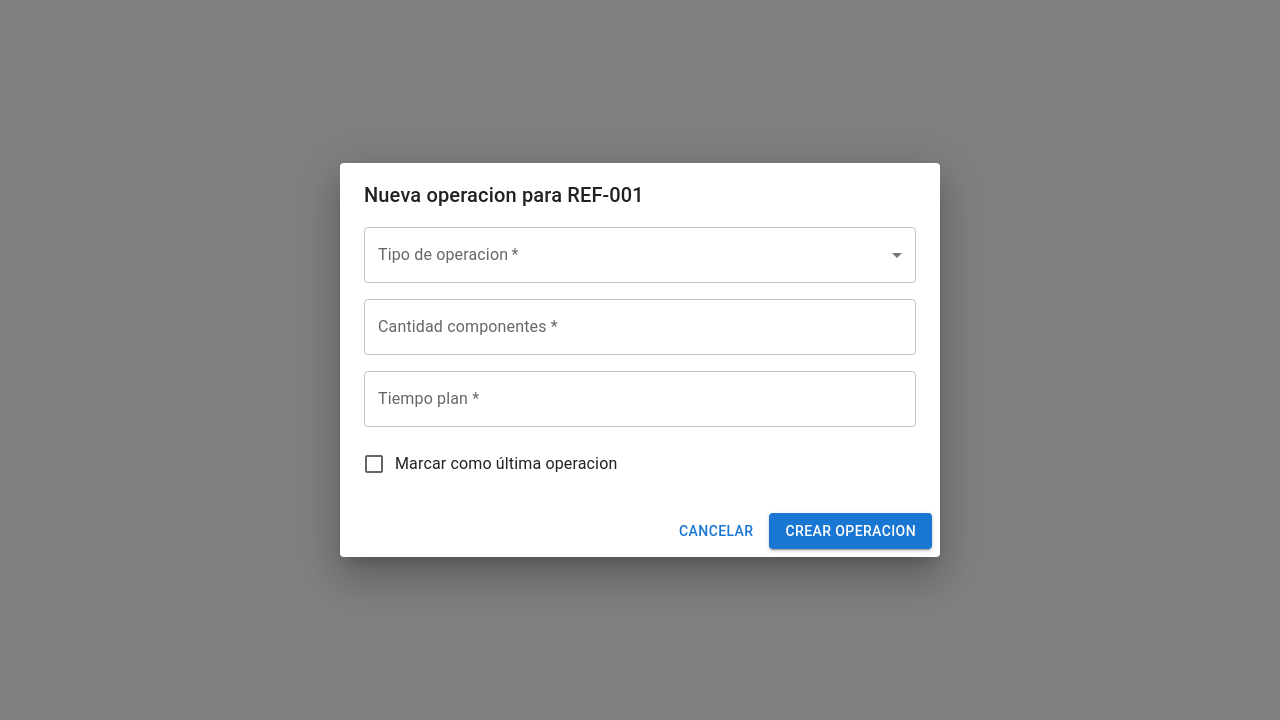
it: Componente: AdminCreateOperacionDialog › Validación: error si cantidadComponentes vacía al enviar
What coordinates should you click on to do the following:
click the button "Crear operacion"
I would click on:
 (851, 531)
Its box is [770,513,932,549].
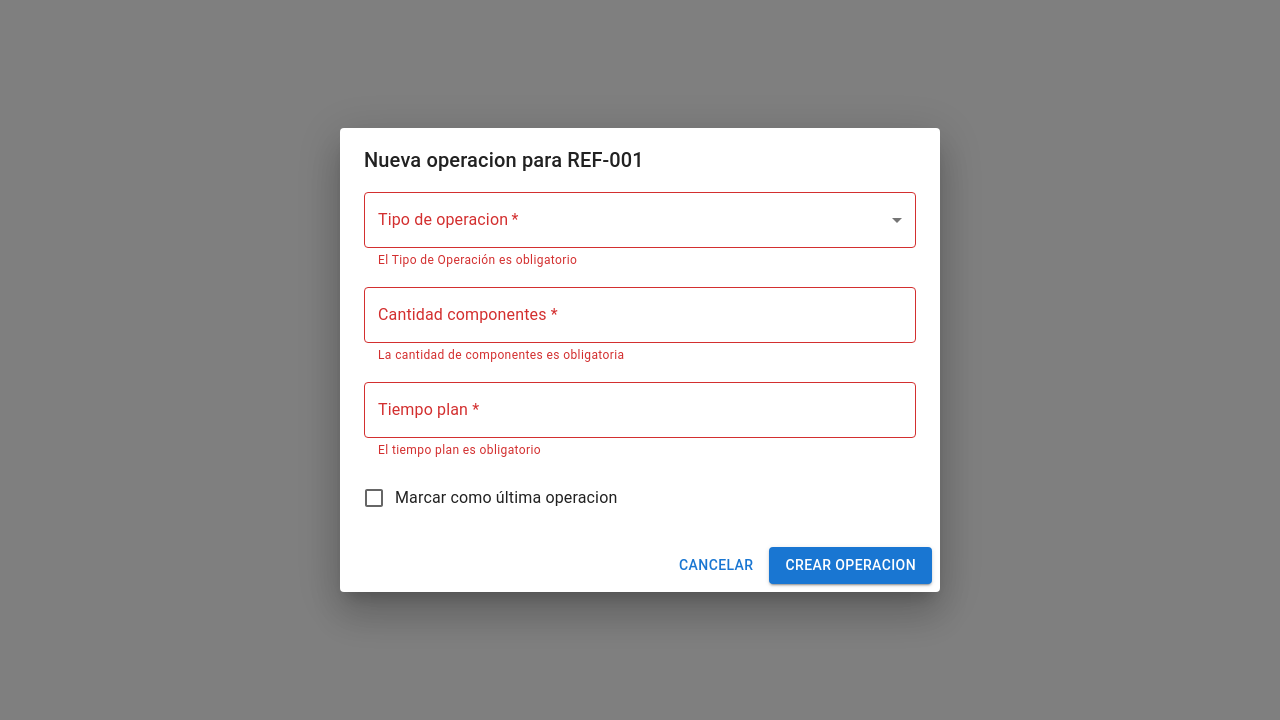
Check: the text "La cantidad de componentes es obligatoria" is shown, box [378,348,624,362]
